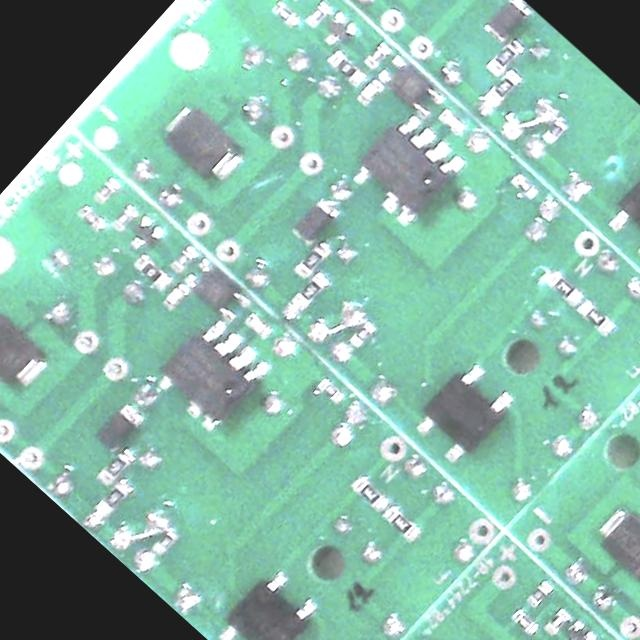chip-capacitor: (437, 107, 468, 137), (357, 78, 383, 106), (244, 311, 271, 337), (162, 284, 186, 308)
chip-resistor: (483, 34, 526, 78), (483, 66, 522, 107), (576, 297, 616, 336), (292, 269, 331, 309), (326, 47, 366, 85), (546, 270, 584, 307), (133, 254, 171, 290), (294, 242, 329, 279), (383, 505, 418, 539), (351, 476, 386, 509), (97, 480, 130, 515), (98, 450, 131, 484), (509, 170, 540, 200), (270, 0, 302, 28), (542, 606, 570, 636), (304, 0, 333, 28), (363, 40, 391, 69), (348, 318, 376, 347), (78, 204, 107, 232), (110, 203, 138, 232), (510, 608, 539, 636), (540, 117, 568, 146), (170, 244, 198, 272), (525, 578, 552, 606), (93, 176, 119, 203), (317, 377, 343, 402), (152, 529, 177, 555)
diode: (157, 98, 251, 190), (0, 306, 53, 396), (593, 501, 640, 587), (291, 196, 340, 247), (95, 402, 144, 453), (481, 0, 533, 44)
ic: (346, 104, 469, 228), (152, 311, 274, 433), (409, 356, 519, 468), (211, 562, 325, 640), (181, 256, 253, 325), (375, 51, 446, 120)
transistor: (317, 10, 360, 53), (123, 212, 165, 256), (556, 617, 596, 640)
